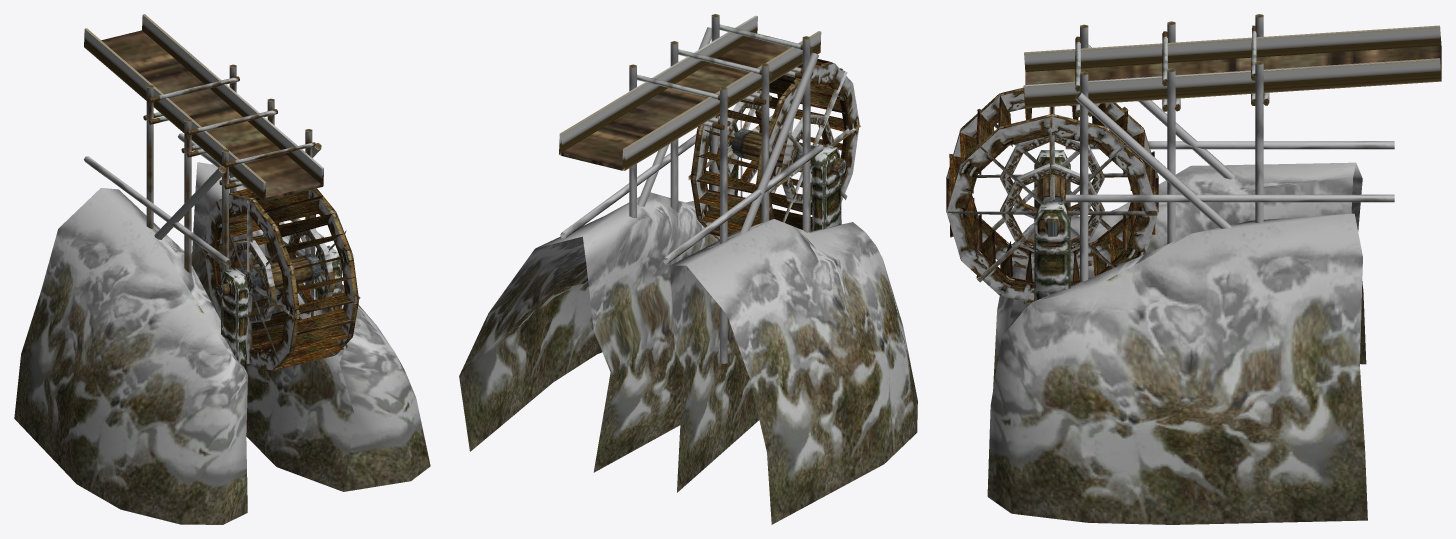
Rendered from general_obj_watermill_lod_01.fbx.
3 views of the same model, side by side, from view 1: azimuth 30°, elevation 25°; view 2: azimuth 150°, elevation 25°; view 3: azimuth 270°, elevation 25° (orthographic). The views are drawn at different scales.
Parts seen in each view (by area): view 1: Sphere01, Sphere02; view 2: Sphere01, Sphere02; view 3: Sphere01, Sphere02.
Boxes of the visible parts, box(x1,y1,x2,y2) form: Sphere01: box(14, 14, 430, 524); Sphere02: box(202, 188, 360, 370); Sphere01: box(459, 14, 917, 524); Sphere02: box(688, 59, 860, 240); Sphere01: box(987, 14, 1441, 524); Sphere02: box(946, 86, 1158, 303).
Bounding box in the file's own units: 19.15 × 20.54 × 23.05.
